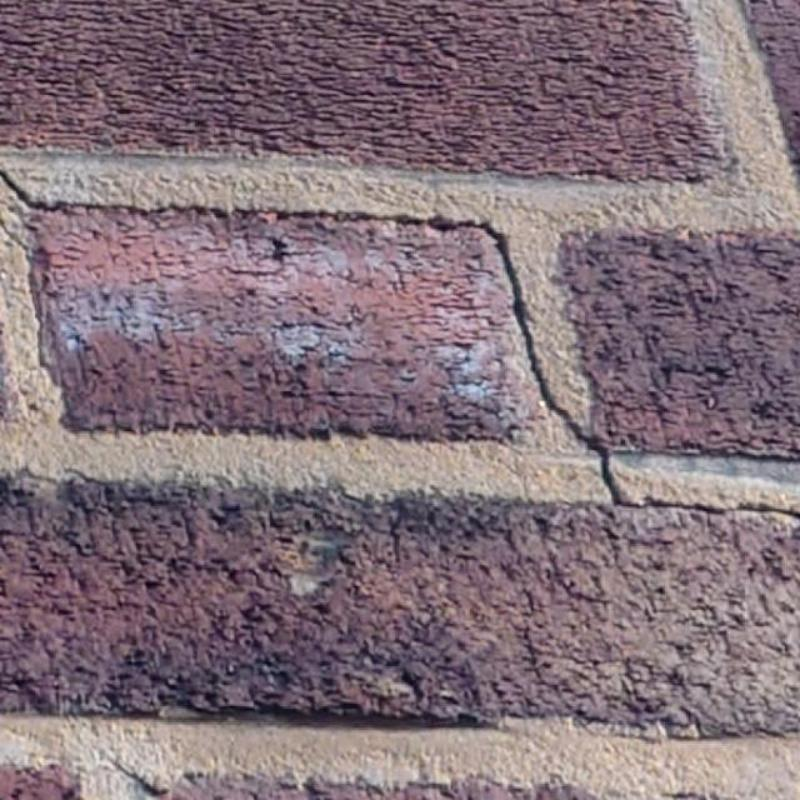crack: (0, 167, 625, 502), (612, 495, 799, 522)
